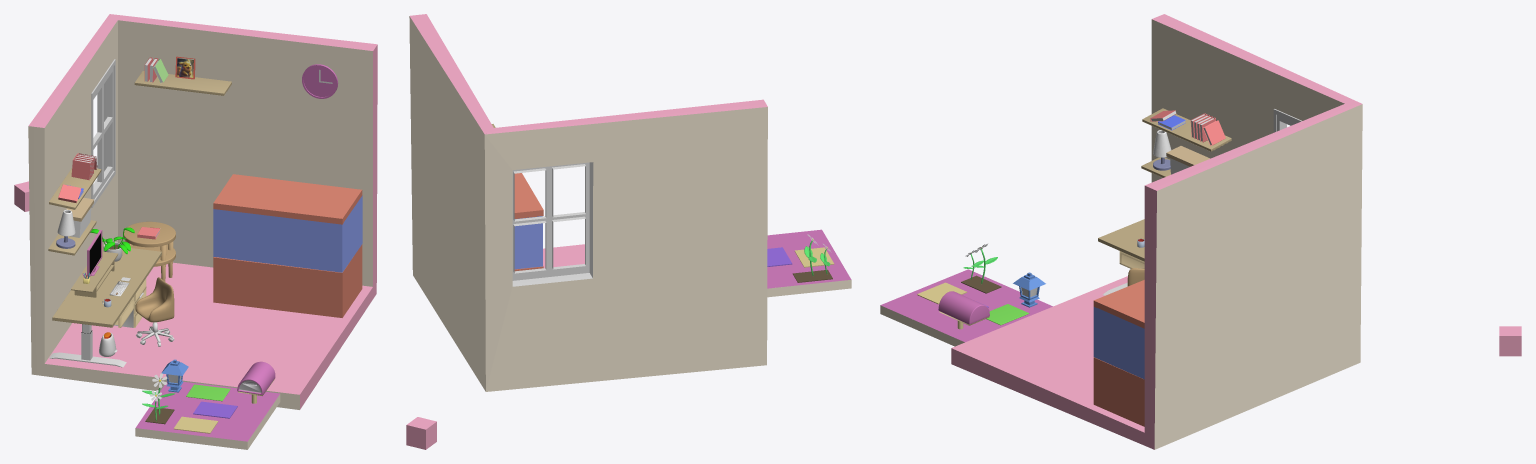
File: Portfolio 3d.glb
3 views of the same model, side by side, from view 1: azimuth 30°, elevation 25°; view 2: azimuth 150°, elevation 25°; view 3: azimuth 270°, elevation 25° (orthographic). The views are drawn at different scales.
Parts seen in each view (by area): view 1: body, Aqua glass, desk, shells, farm, upper, chair, floor, watch, mailbox, lamp, floor2 (+4 smaller); view 2: body, farm, Aqua glass, Cube; view 3: body, Aqua glass, farm, shells, desk, mailbox, Cube, lamp.
Boxes of the visible parts, x1,y1,x2,y2 form: body: [28, 14, 377, 409]; Aqua glass: [213, 174, 362, 317]; desk: [49, 221, 175, 367]; shells: [48, 56, 231, 255]; farm: [135, 381, 280, 449]; upper: [71, 227, 160, 307]; chair: [135, 277, 174, 322]; floor: [99, 278, 174, 356]; watch: [302, 64, 338, 98]; mailbox: [237, 361, 275, 403]; lamp: [161, 359, 188, 392]; floor2: [193, 401, 237, 418]; body: [409, 14, 767, 391]; farm: [767, 229, 851, 297]; Aqua glass: [514, 173, 543, 271]; Cube: [406, 417, 436, 449]; body: [951, 14, 1362, 449]; Aqua glass: [1093, 280, 1144, 426]; farm: [880, 269, 1052, 346]; shells: [1141, 108, 1231, 177]; desk: [1098, 219, 1144, 295]; mailbox: [938, 291, 989, 329]; Cube: [1499, 326, 1521, 356]; lamp: [1013, 272, 1045, 307].
Bounding box in the file's own units: 47.9 × 33.23 × 73.37.
62 materials, 1 textured.
